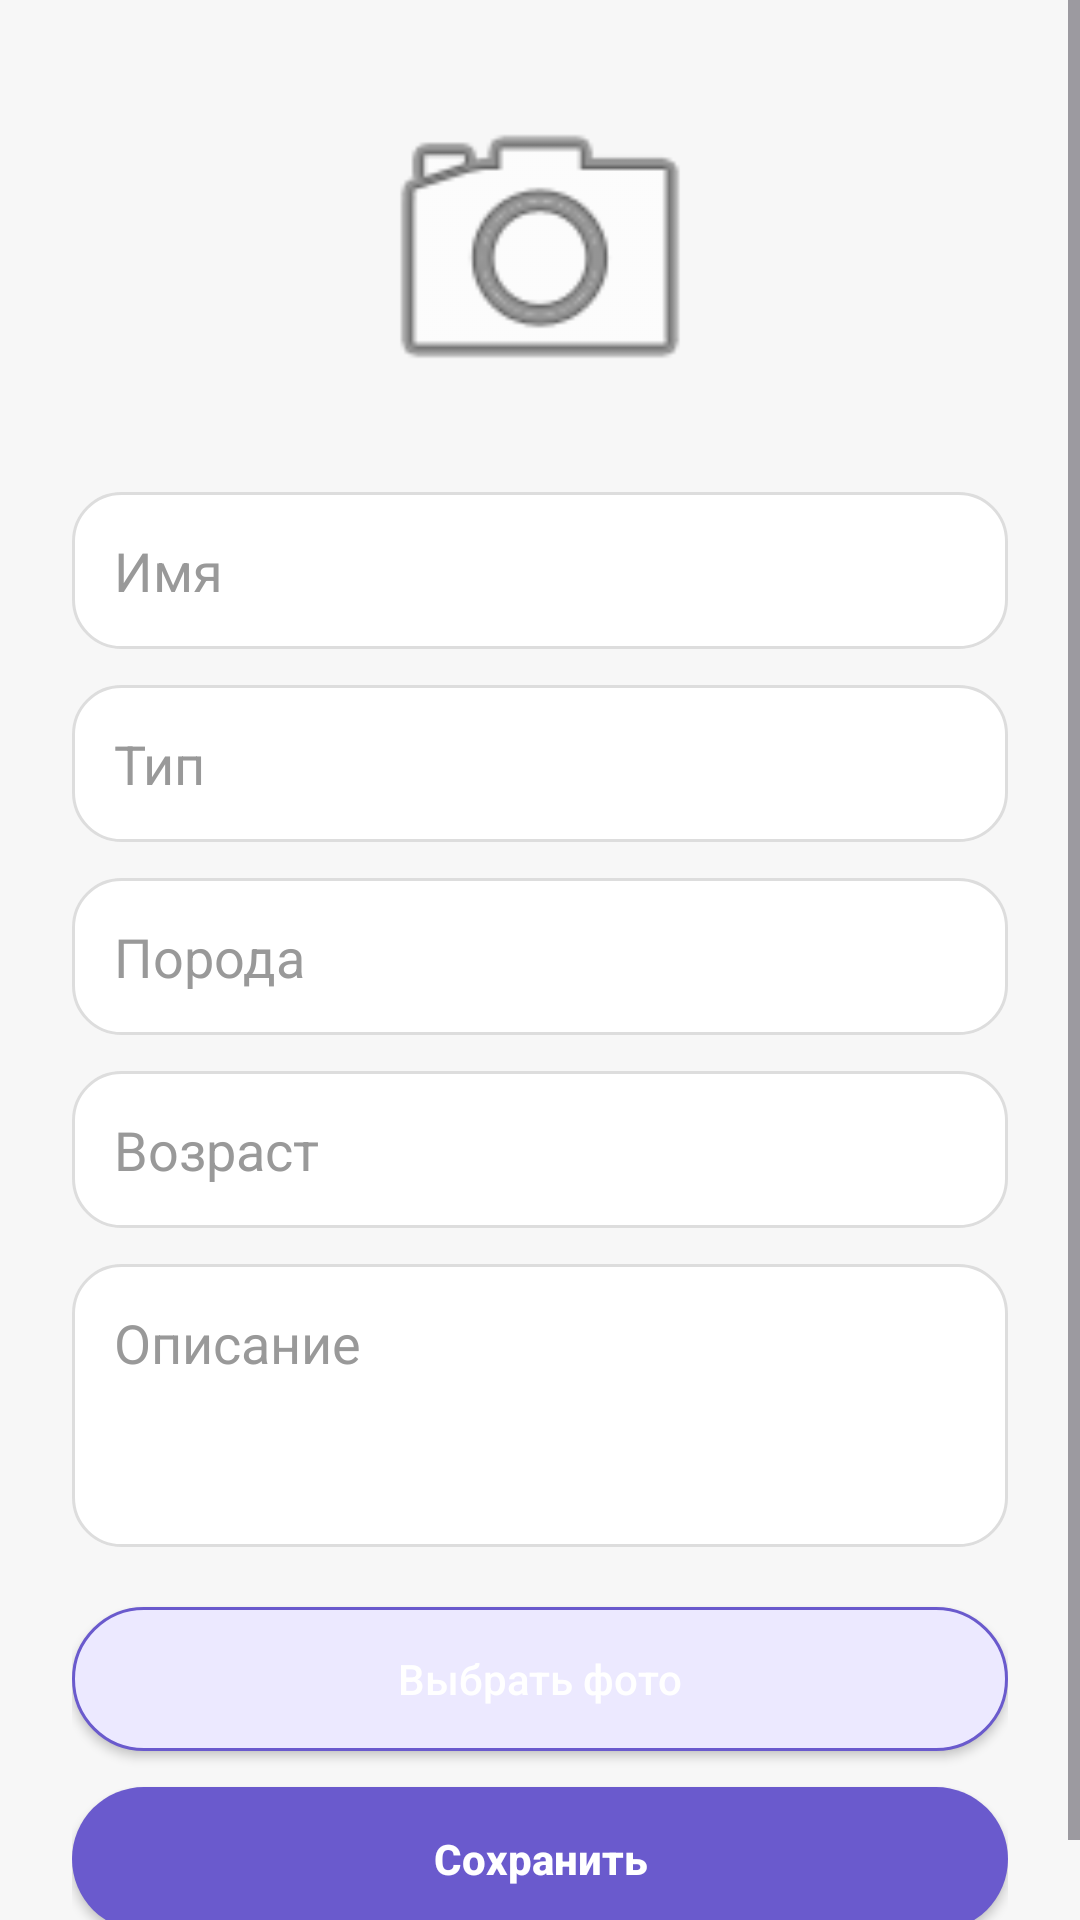

Screen size 1080px×1920px. Icon name, then its box in pixels as (x1, y1, x2, y2):
Фото питомца: (401, 135, 679, 357)
